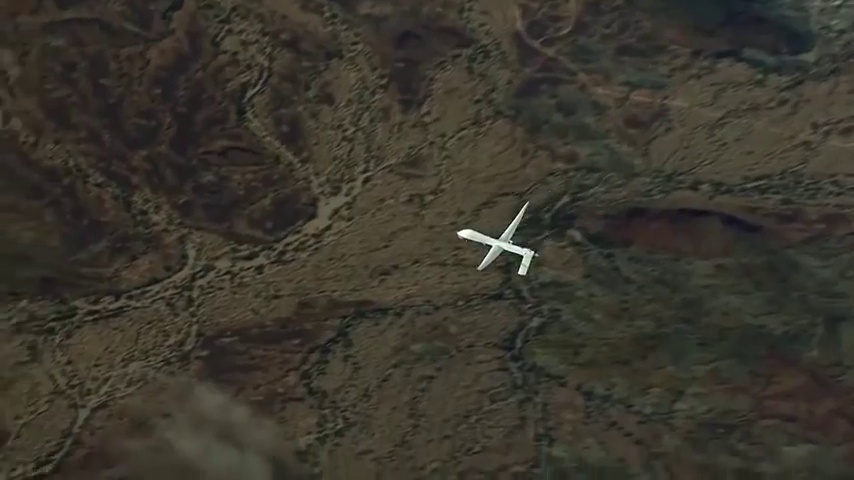military drone: (456, 200, 539, 276)
